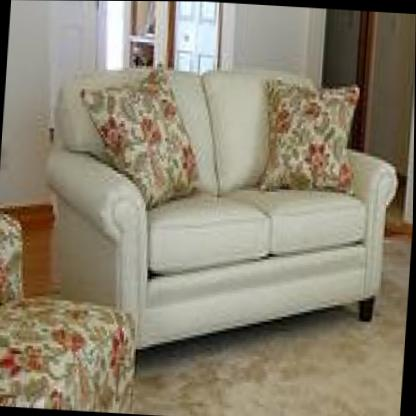Sofa: (29, 52, 406, 387)
